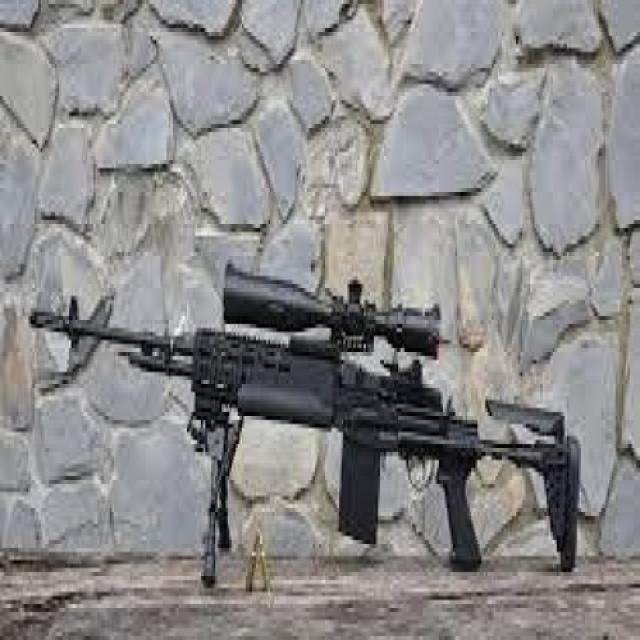Gun: (19, 219, 594, 603)
